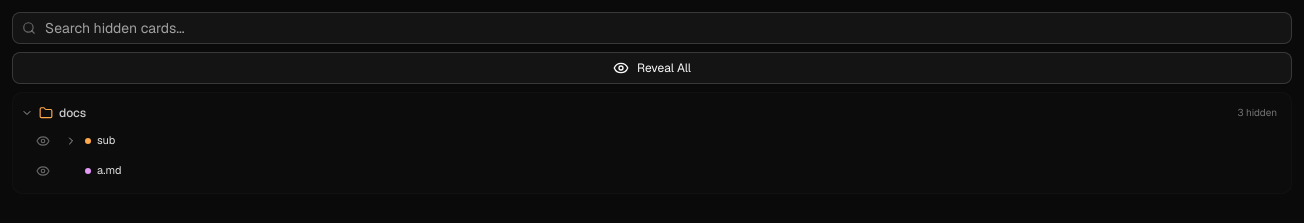
Test: HiddenNodesPanel › a root with hidden children shows a disclosure and expands on click
Click the button named "Expand". click: (71, 141)
box: [63,133,79,149]
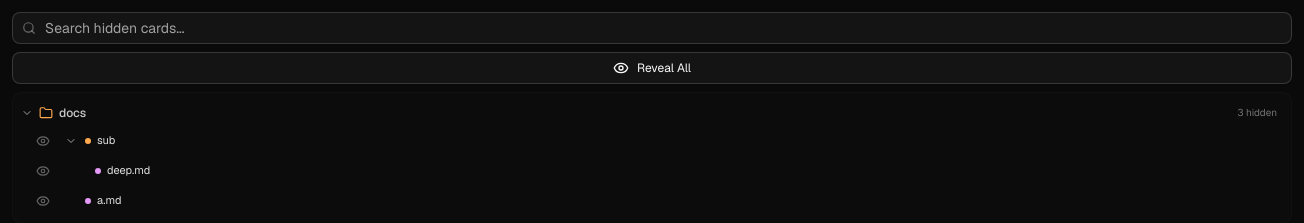
expect the text "deep.md" is shown: met, box [107,163,150,177]
